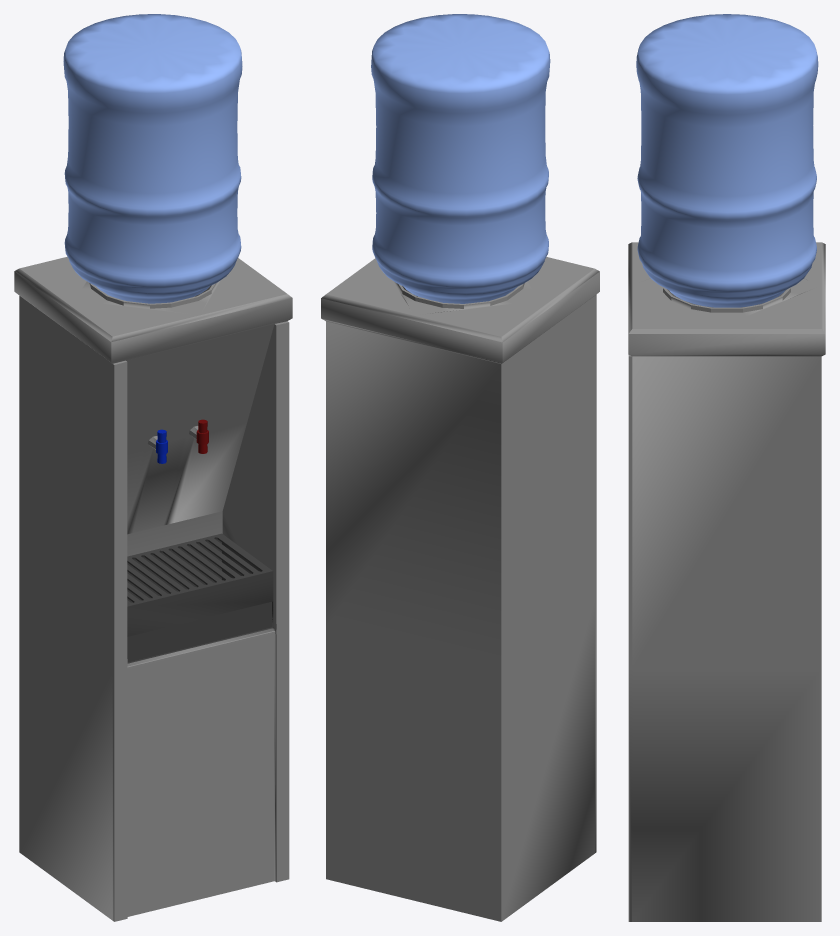
File: WaterDispenser.FBX
The picture shows the model from 3 angles, left to right: view 1: azimuth 30°, elevation 25°; view 2: azimuth 150°, elevation 25°; view 3: azimuth 270°, elevation 25°; orthographic projection.
Parts seen in each view (by area): view 1: WaterDispenser; view 2: WaterDispenser; view 3: WaterDispenser.
Boxes of the visible parts, x1=… form: WaterDispenser: x1=14, y1=14, x2=292, y2=921; WaterDispenser: x1=321, y1=14, x2=599, y2=921; WaterDispenser: x1=628, y1=14, x2=825, y2=921.
Size of the model in its own units: 36.63 by 158 by 33.92.
